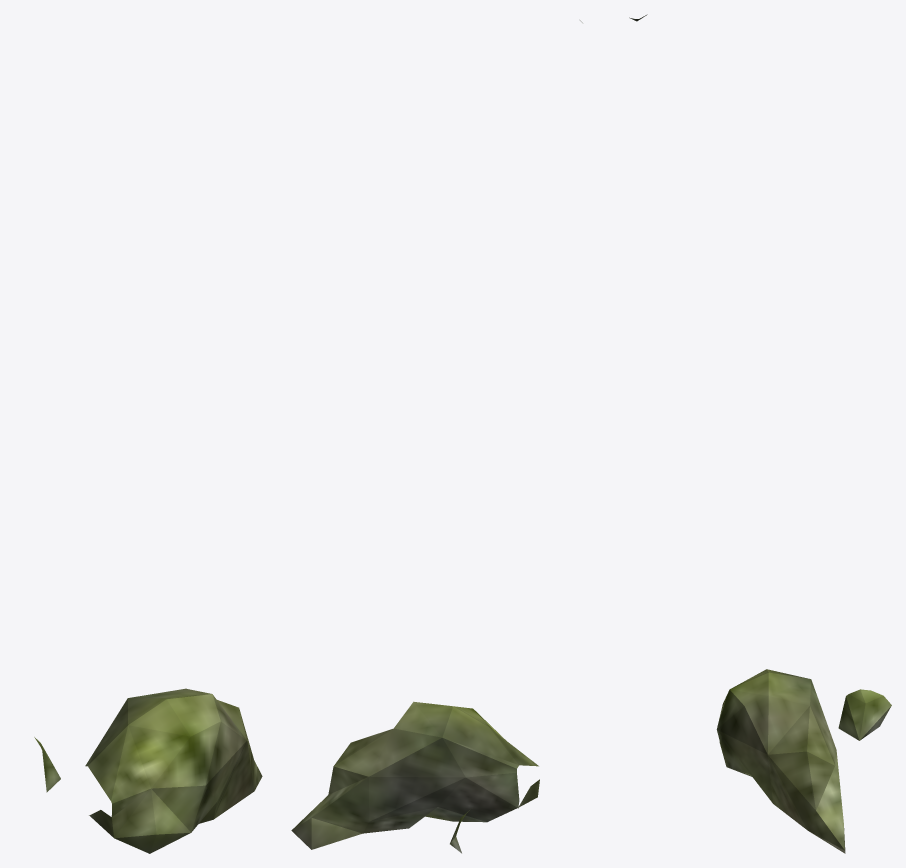
The picture shows the model from 3 angles, left to right: view 1: azimuth 30°, elevation 25°; view 2: azimuth 150°, elevation 25°; view 3: azimuth 270°, elevation 25°; orthographic projection. The views are drawn at different scales.
Bounding box in the file's own units: 0.858 × 3.43 × 1.1.
1 material, 1 textured.
